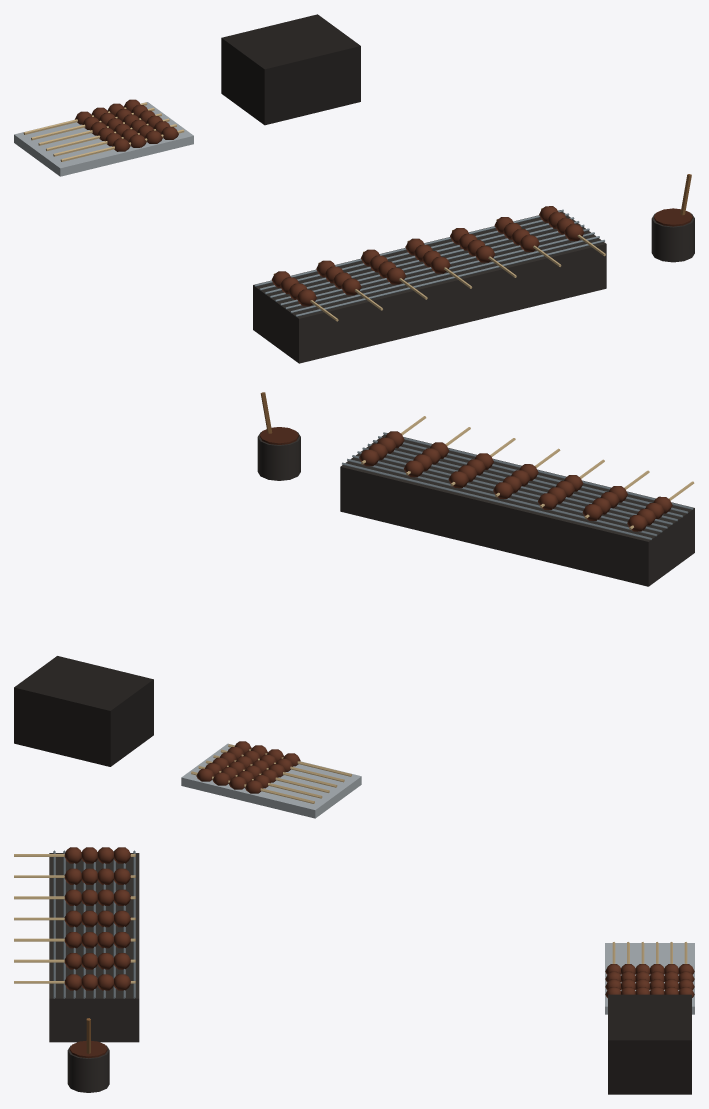
Rendered from goods_gyukushi.glb.
The picture shows the model from 3 angles, top to bottom: view 1: azimuth 30°, elevation 25°; view 2: azimuth 150°, elevation 25°; view 3: azimuth 270°, elevation 25°; orthographic projection. The views are drawn at different scales.
Parts seen in each view (by area): view 1: goods_gyukushi; view 2: goods_gyukushi; view 3: goods_gyukushi.
Part boxes in pixels (x1=…): goods_gyukushi: x1=14, y1=14, x2=694, y2=363; goods_gyukushi: x1=14, y1=392, x2=694, y2=818; goods_gyukushi: x1=14, y1=847, x2=694, y2=1094.
Bounding box in the file's own units: 1.55 × 0.3856 × 2.27.
